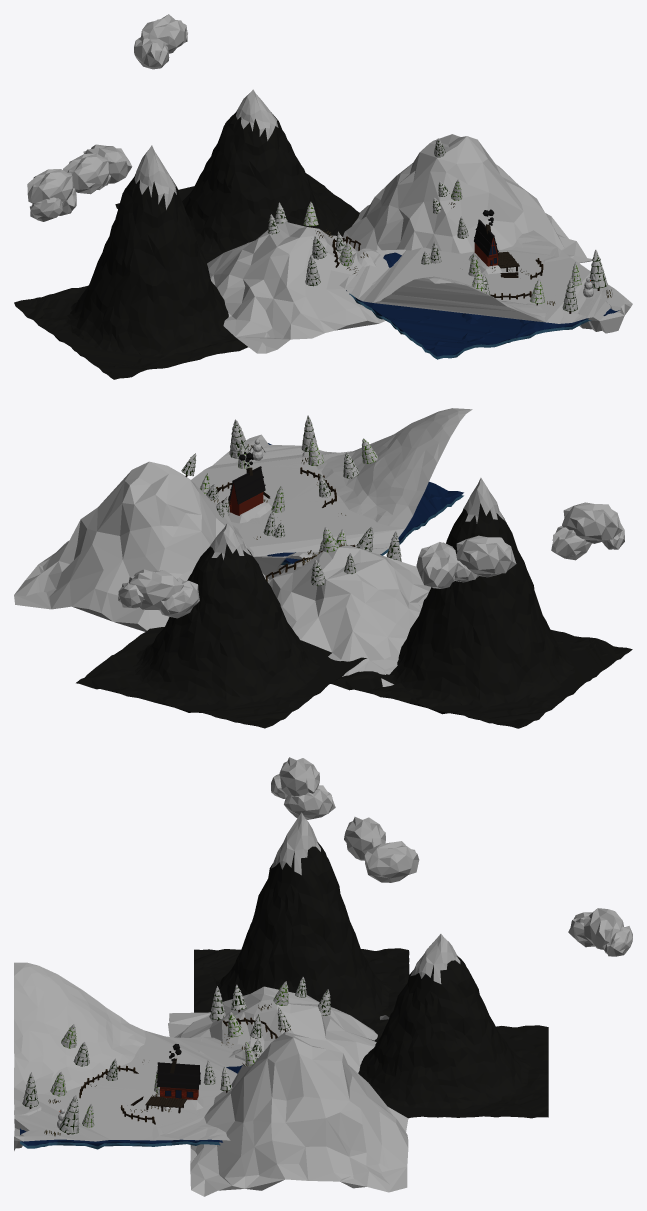
Rendered from WinterScene.glb.
3 views of the same model, one above another, from view 1: azimuth 30°, elevation 25°; view 2: azimuth 150°, elevation 25°; view 3: azimuth 270°, elevation 25° (orthographic). The views are drawn at different scales.
Size of the model in its own units: 17.6 by 6.17 by 17.44.
